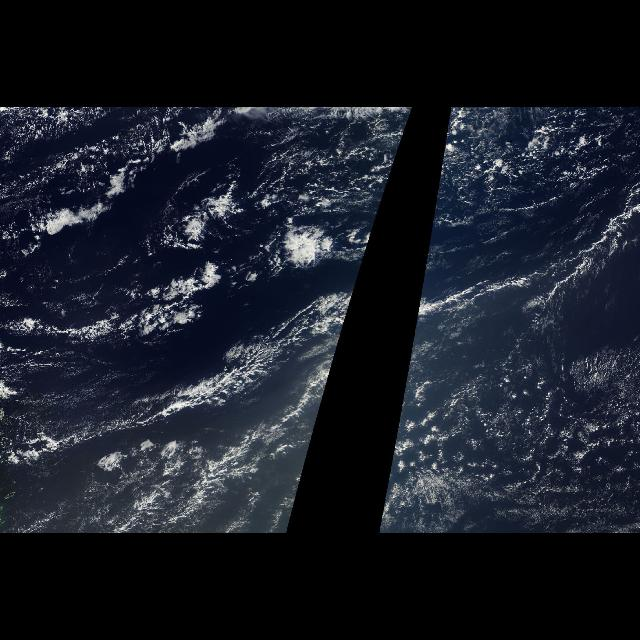Fish: (30, 262, 358, 420), (398, 278, 484, 419)
Gravel: (12, 112, 412, 294), (379, 313, 639, 529), (421, 112, 613, 294)
Sugar: (416, 342, 632, 518)
